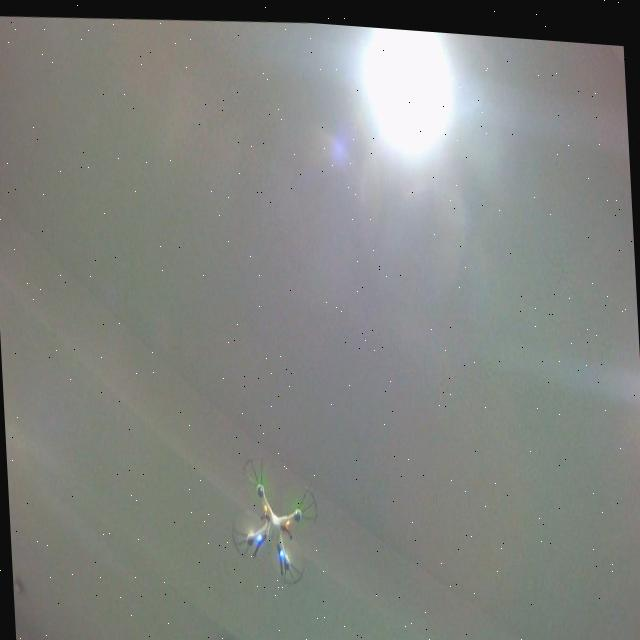drone: (227, 447, 323, 588)
